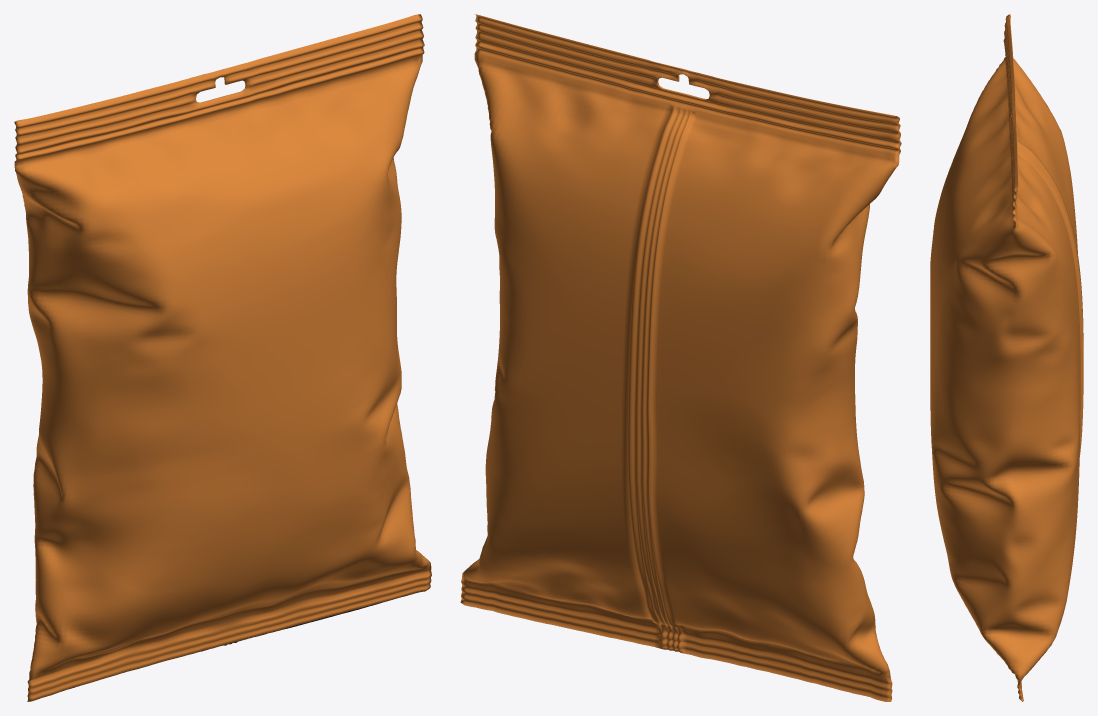
Rendered from plastic-packet.fbx.
3 views of the same model, side by side, from view 1: azimuth 30°, elevation 25°; view 2: azimuth 150°, elevation 25°; view 3: azimuth 270°, elevation 25° (orthographic). The views are drawn at different scales.
Visible parts, largest first — view 1: package; view 2: package; view 3: package.
Part boxes in pixels (<box>): package: <box>14,14,431,701</box>; package: <box>460,14,901,701</box>; package: <box>930,14,1083,701</box>.
Bounding box in the file's own units: 18.03 × 23.78 × 6.43.
1 material, 1 textured.
